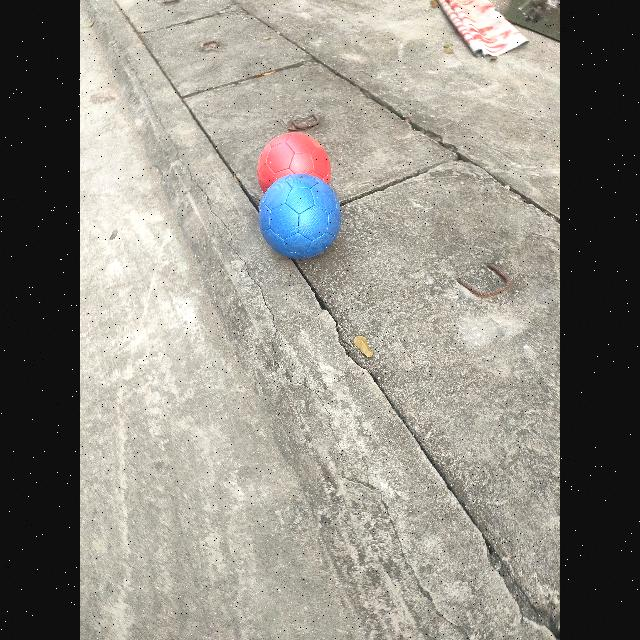B: (259, 174, 341, 258)
R: (257, 132, 331, 192)
